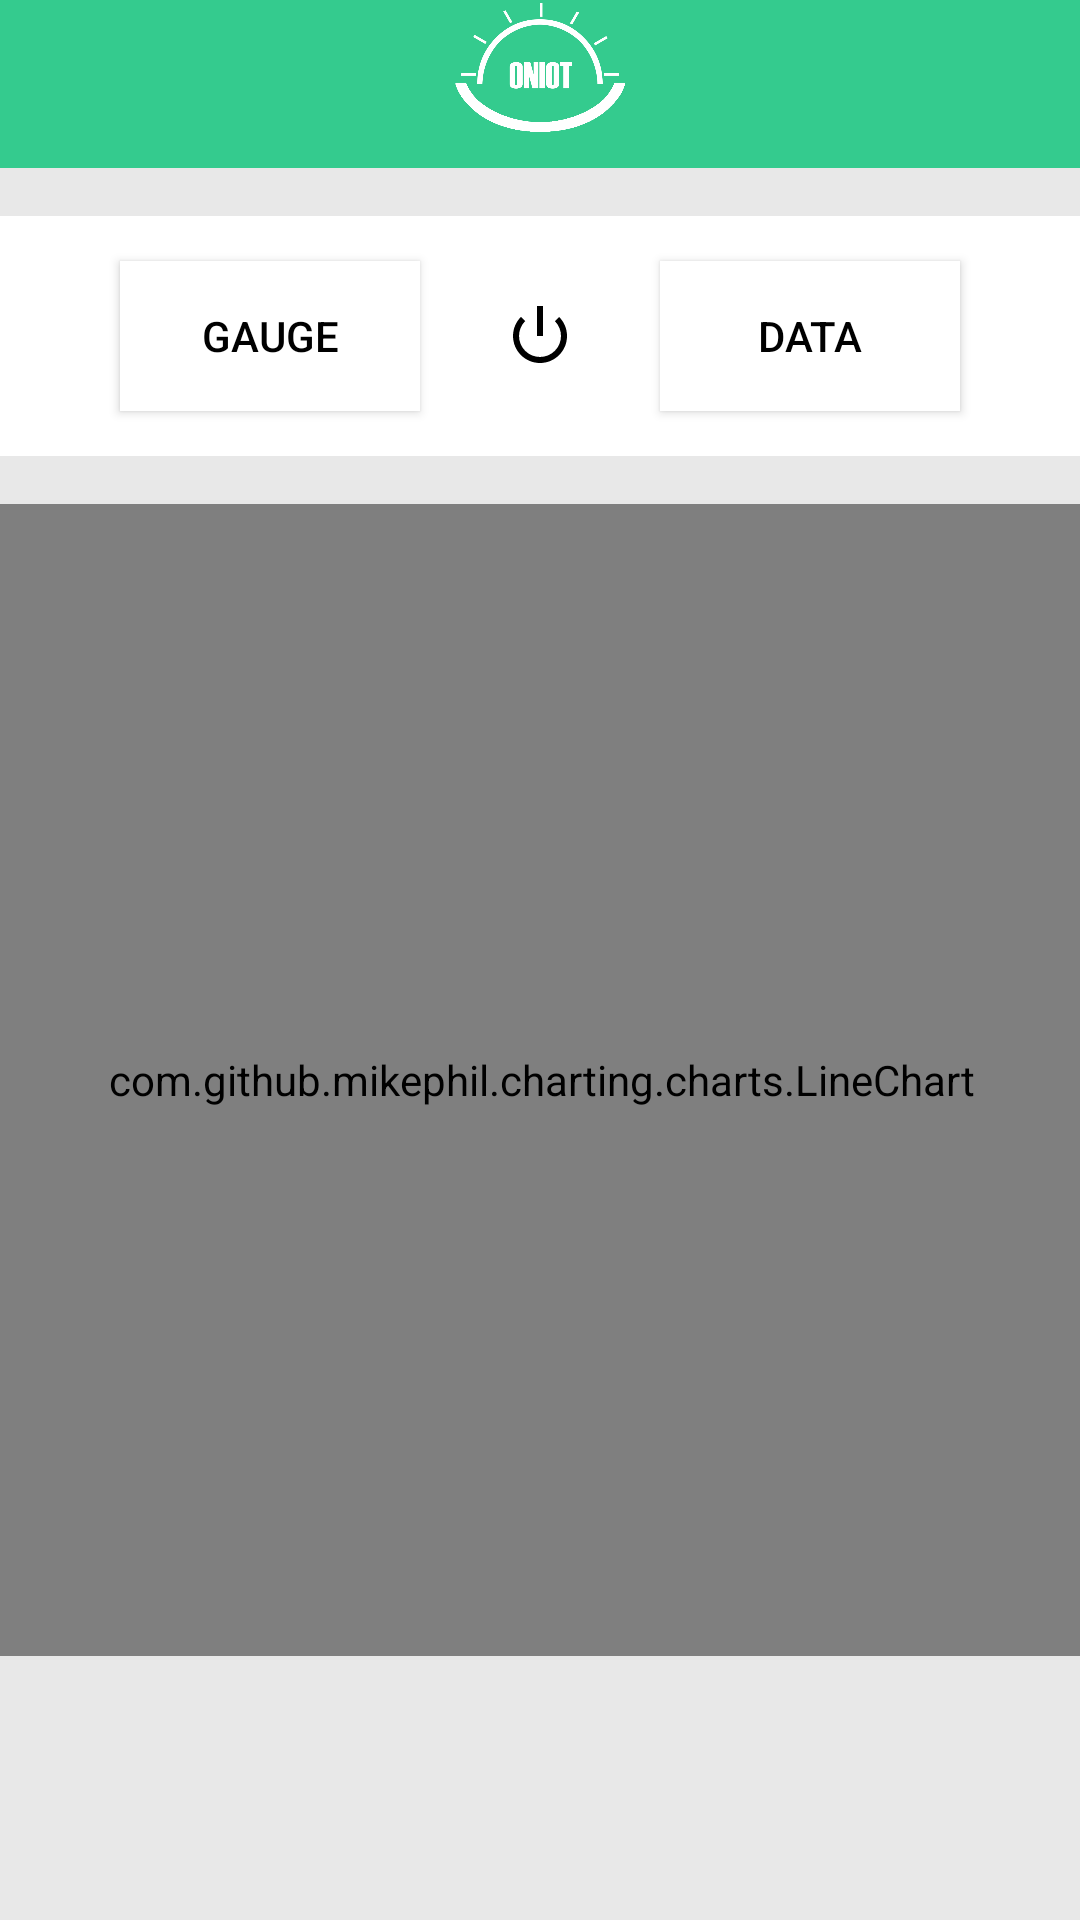

Screen size 1080 x 1920. Icon name, then its center in pixels as [x,y]:
lock power off: [540,334]
